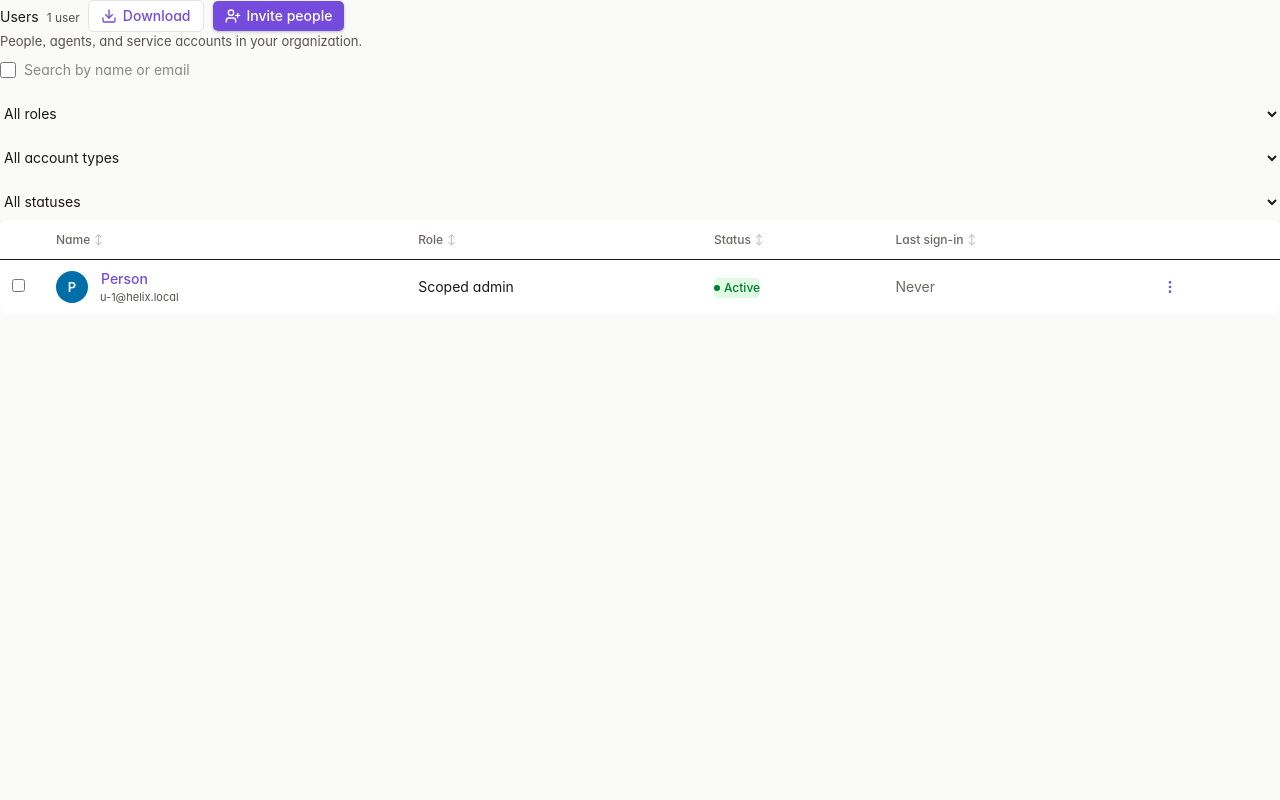
Test case: AdminUsers › opens a person's details in a side sheet and keeps it in the URL
The width and height of the screenshot is (1280, 800).
Click the button with class "admin-record-link": (124, 279) [100,268,149,290]
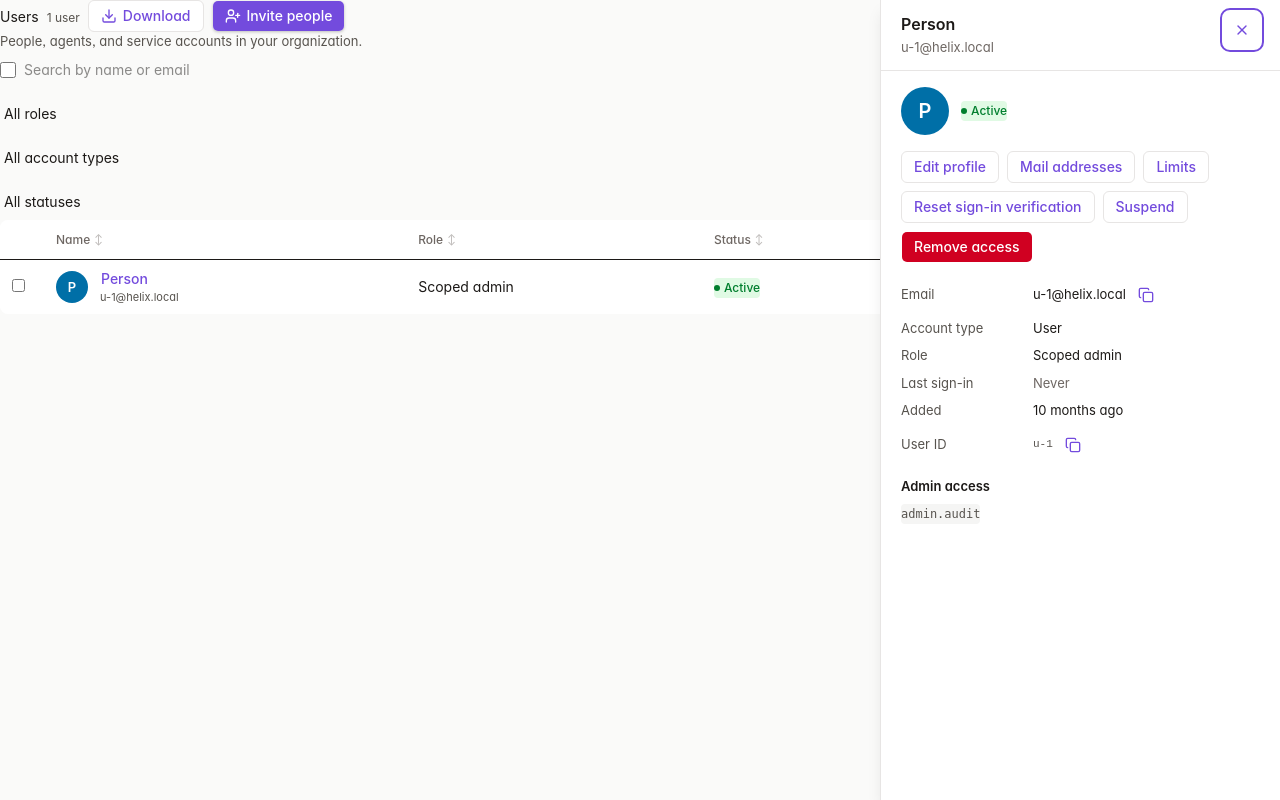
Result: the dialog shows "admin.audit" at [901,507,980,521]
Result: the button named "Copy user ID" is shown at [1057,428,1089,460]
